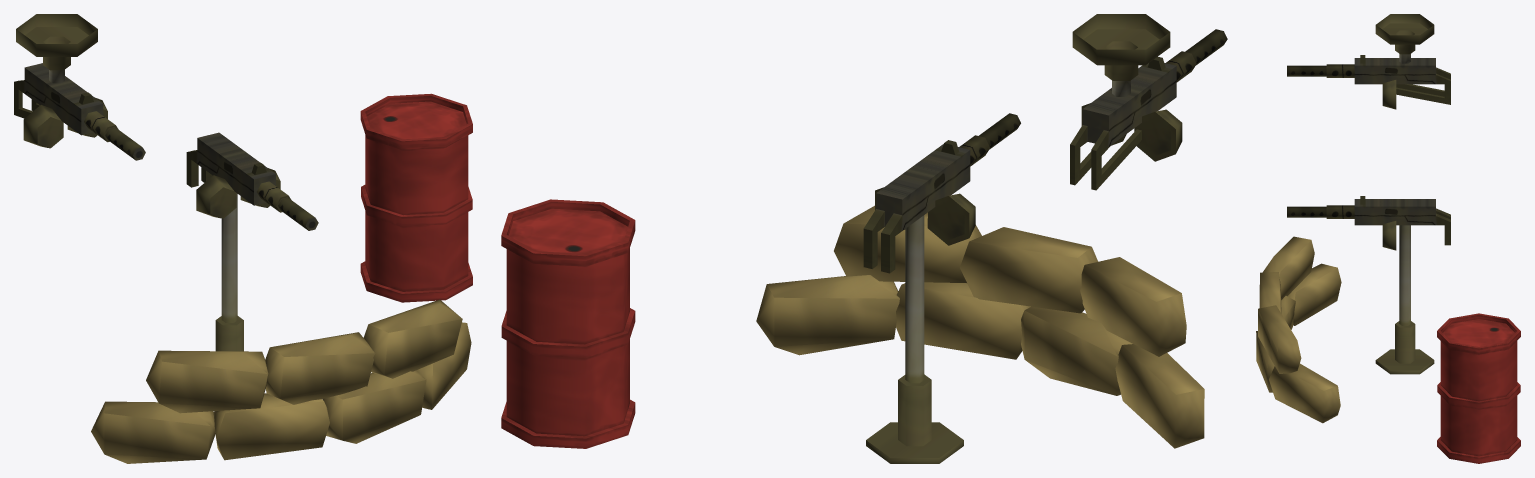
Rendered from Turret.fbx.
The picture shows the model from 3 angles, left to right: view 1: azimuth 30°, elevation 25°; view 2: azimuth 150°, elevation 25°; view 3: azimuth 270°, elevation 25°; orthographic projection. The views are drawn at different scales.
Parts seen in each view (by area): view 1: SandBags, Barrel, Turret1, Turret2, TurretStand2, TurretStand1; view 2: SandBags, Barrel, Turret2, Turret1, TurretStand1, TurretStand2; view 3: Barrel, SandBags, Turret2, Turret1, TurretStand1, TurretStand2.
Boxes of the visible parts, bbox=[...] form: SandBags: bbox=[91, 299, 471, 463]; Barrel: bbox=[360, 93, 472, 302]; Turret1: bbox=[186, 132, 318, 230]; Turret2: bbox=[14, 63, 145, 160]; TurretStand2: bbox=[16, 14, 97, 83]; TurretStand1: bbox=[215, 193, 243, 351]; SandBags: bbox=[756, 205, 1204, 448]; Barrel: bbox=[501, 199, 635, 448]; Turret2: bbox=[1070, 29, 1227, 190]; Turret1: bbox=[863, 113, 1020, 273]; TurretStand1: bbox=[866, 215, 963, 463]; TurretStand2: bbox=[1072, 14, 1170, 96]; Barrel: bbox=[1437, 313, 1520, 463]; SandBags: bbox=[1256, 236, 1341, 423]; Turret2: bbox=[1287, 55, 1450, 109]; Turret1: bbox=[1287, 196, 1450, 250]; TurretStand1: bbox=[1375, 225, 1434, 374]; TurretStand2: bbox=[1375, 14, 1434, 63].
Bounding box in the file's own units: 902 × 674 × 576.
